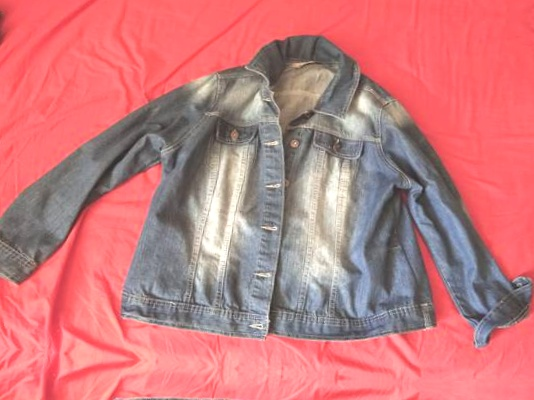Blazer: (0, 5, 534, 356), (0, 386, 517, 400)
